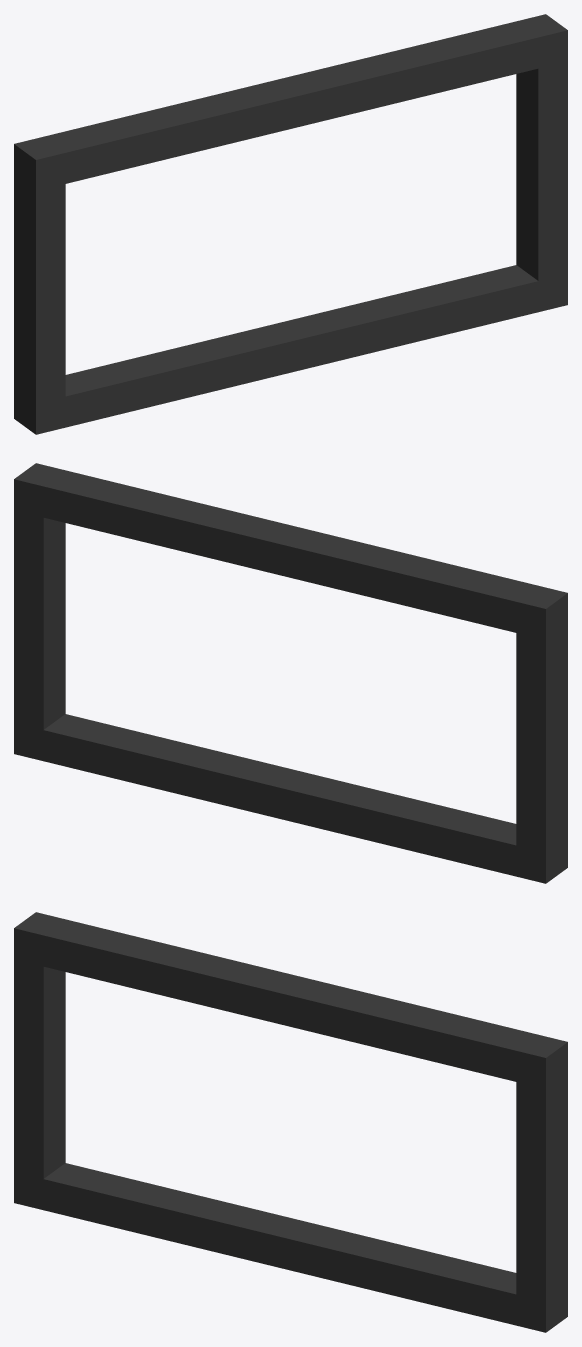
File: Window4_04_2.fbx
3 views of the same model, one above another, from view 1: azimuth 30°, elevation 25°; view 2: azimuth 150°, elevation 25°; view 3: azimuth 330°, elevation 25° (orthographic).
Visible parts, largest first — view 1: Window4_04_2; view 2: Window4_04_2; view 3: Window4_04_2.
Part boxes in pixels (x1,y1,x2,y2): Window4_04_2: (14, 14, 567, 434); Window4_04_2: (14, 463, 567, 883); Window4_04_2: (14, 912, 567, 1332).
Bounding box in the file's own units: 80.38 × 39.68 × 5.76.
